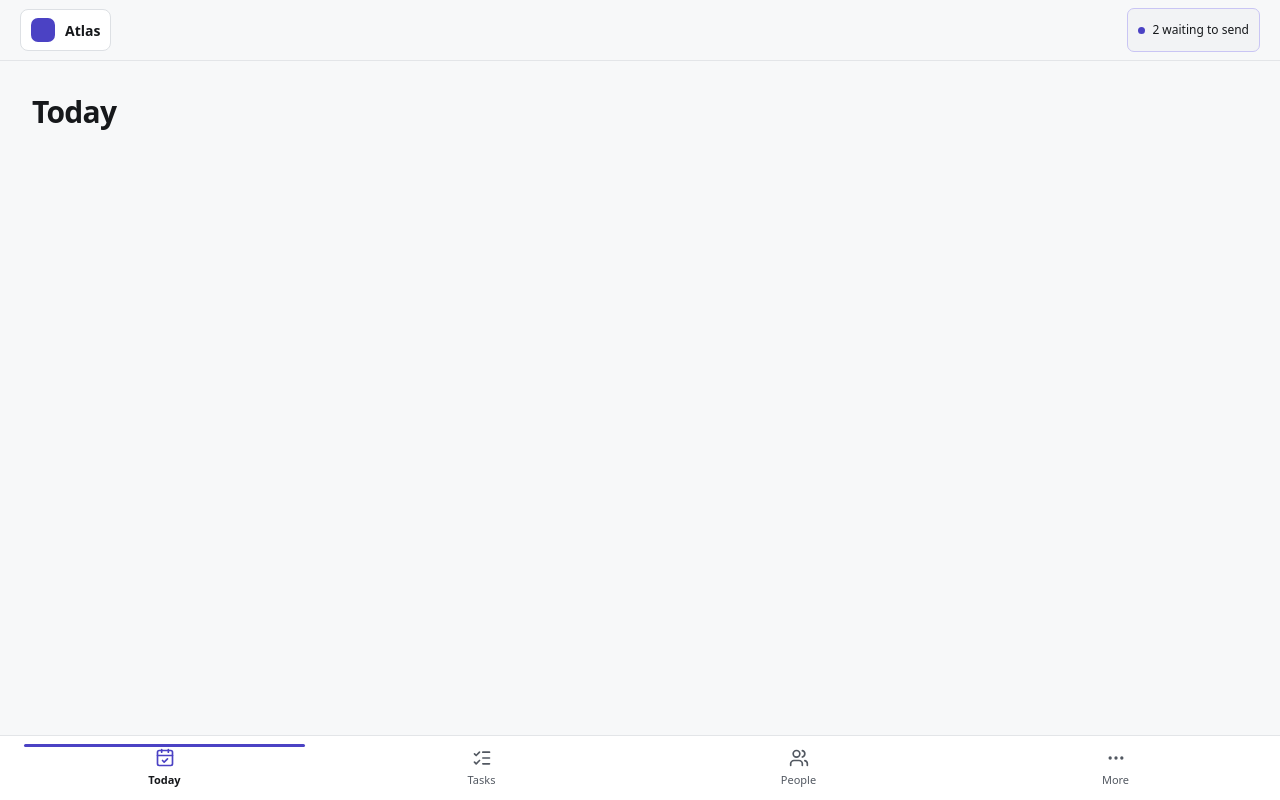
it: More sheet (mobile) › choosing a destination navigates and closes the sheet
The image size is (1280, 800).
Expected: the element showing "Today" is shown, [32,91,116,132]
Click the button "More".
click(1116, 768)  # box [959,744,1272,792]
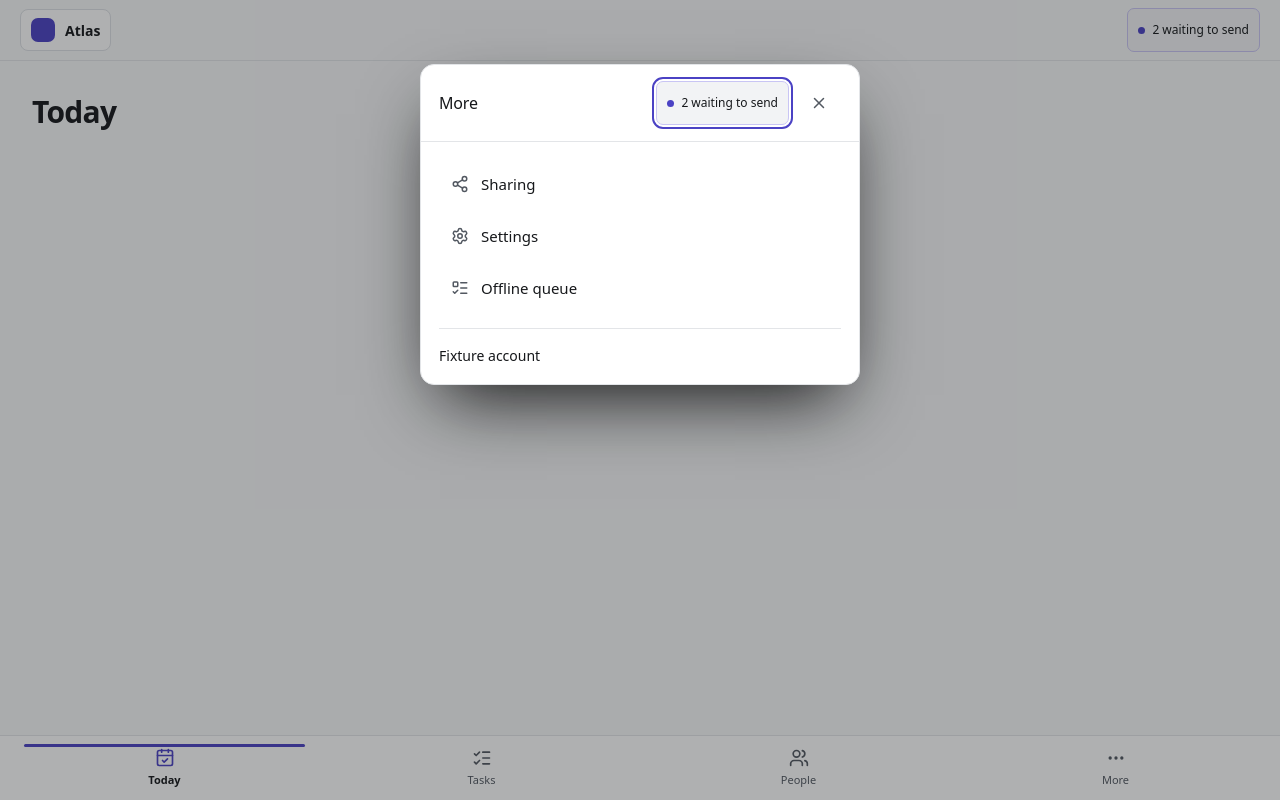
Click the link "Sharing".
click(493, 184)  # box [451,174,536,194]
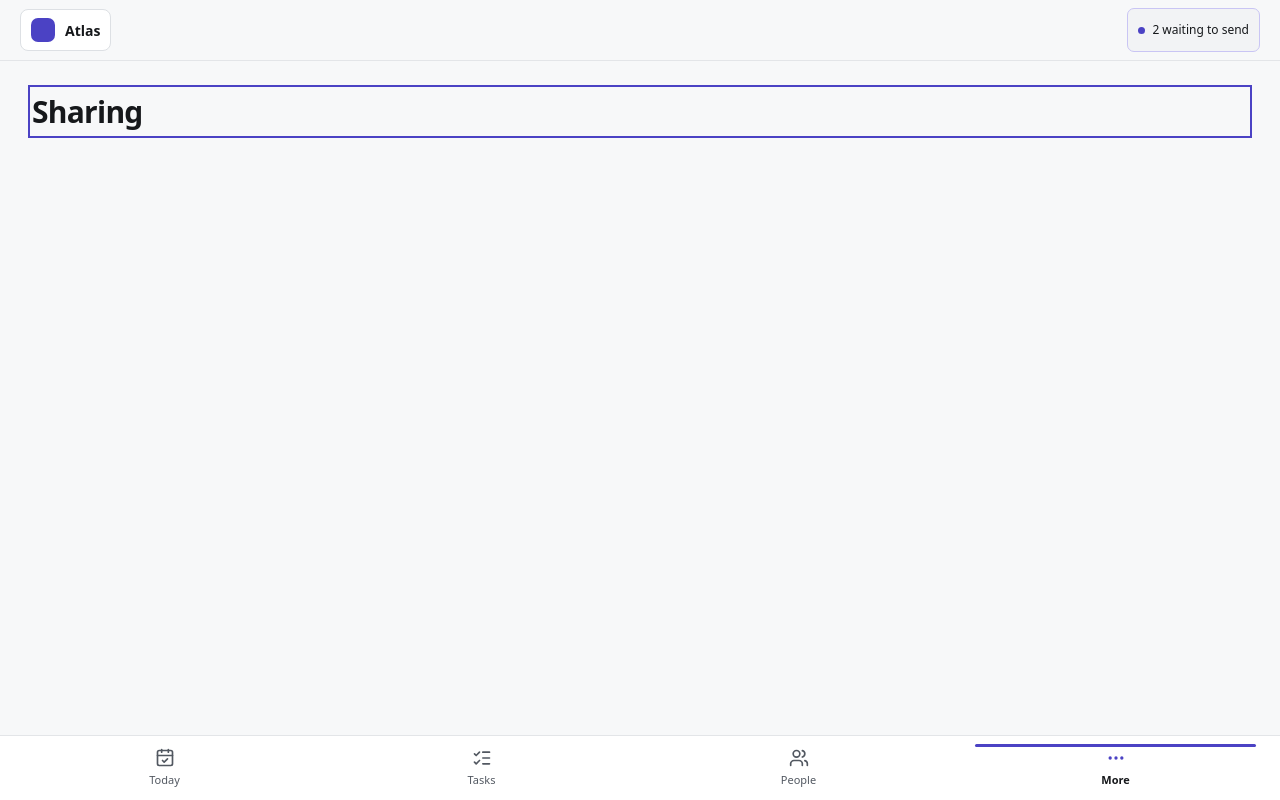
Expected: the dialog is gone
